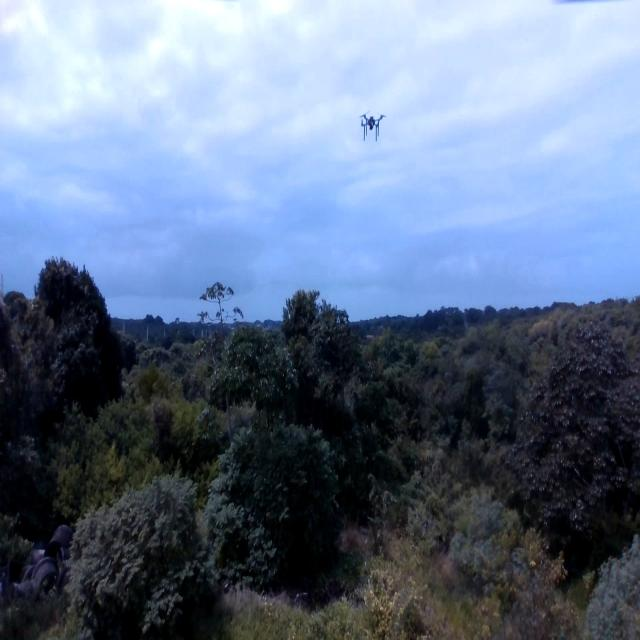-uav-: (350, 102, 391, 156)
